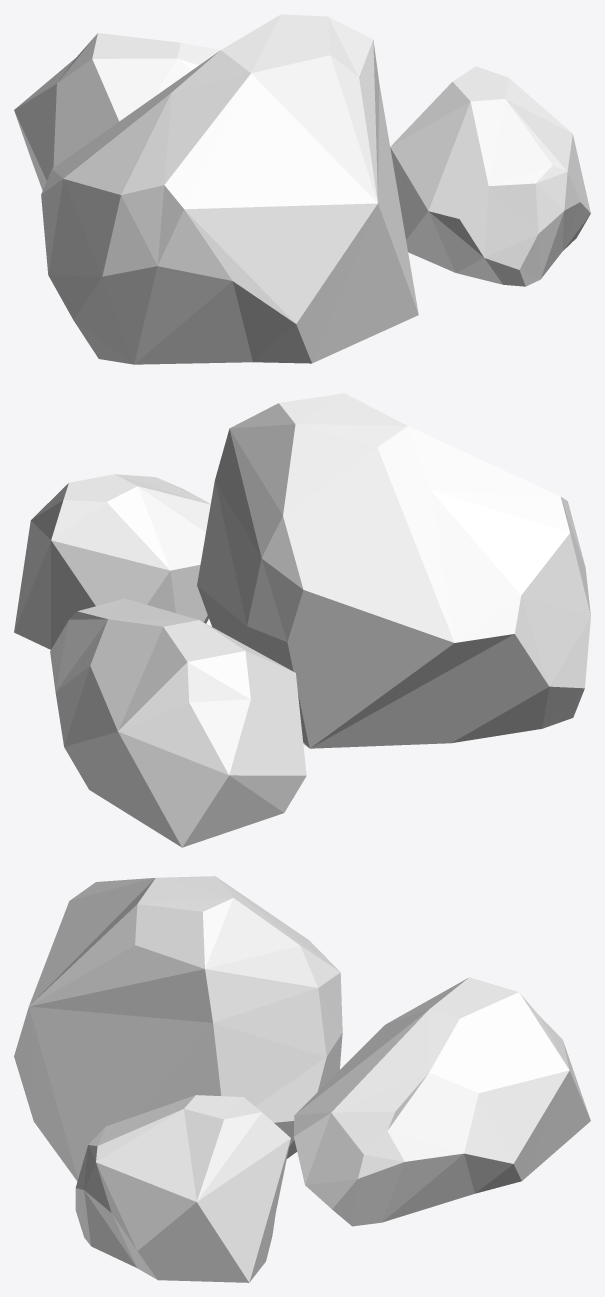
File: Env_Rock_02.glb
The picture shows the model from 3 angles, top to bottom: view 1: azimuth 30°, elevation 25°; view 2: azimuth 150°, elevation 25°; view 3: azimuth 270°, elevation 25°; orthographic projection. The views are drawn at different scales.
Visible parts, largest first — view 1: Env_Rock_02; view 2: Env_Rock_02; view 3: Env_Rock_02.
Part boxes in pixels (left/top/right/bottom): Env_Rock_02: left=14, top=14, right=590, bottom=364; Env_Rock_02: left=14, top=393, right=590, bottom=847; Env_Rock_02: left=14, top=876, right=590, bottom=1282.
Bounding box in the file's own units: 2.06 × 0.9924 × 2.01.
1 material, 1 textured.
